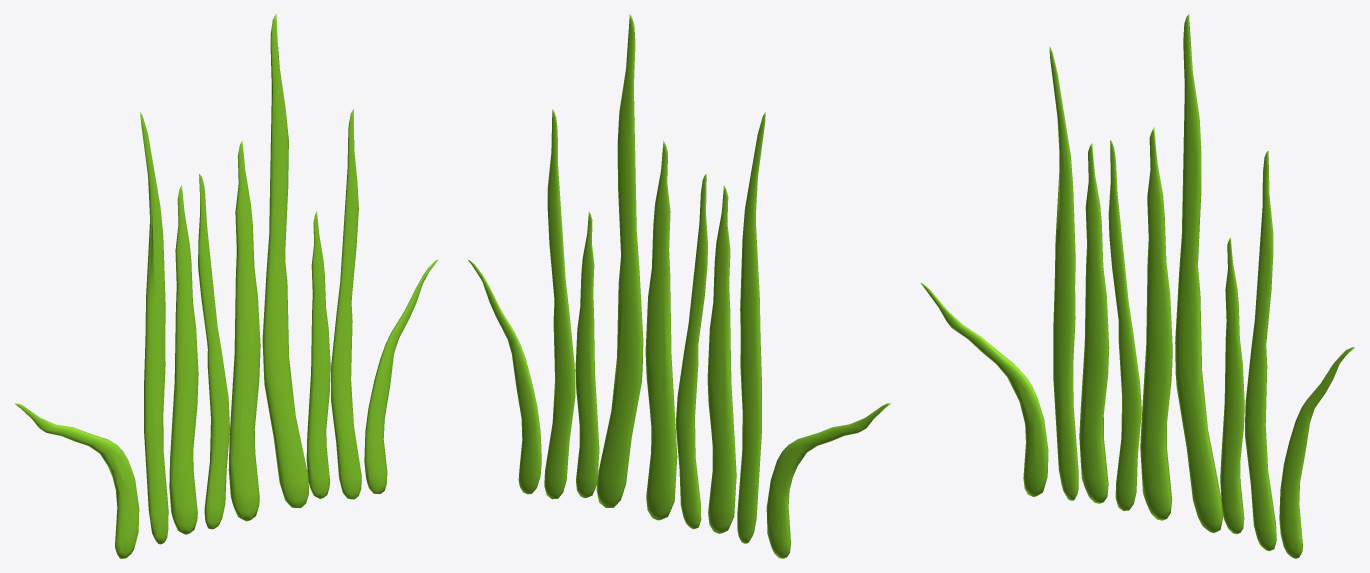
Rendered from grass on top of terrain.fbx.
3 renders of one model, left to right at view 1: azimuth 30°, elevation 25°; view 2: azimuth 150°, elevation 25°; view 3: azimuth 330°, elevation 25°, orthographic. The views are drawn at different scales.
Parts seen in each view (by area): view 1: Cube.018, Cube.021, Cube.024, Cube.023, Cube.019, Cube.020, Cube.022, Cube.026, Cube.025; view 2: Cube.018, Cube.021, Cube.024, Cube.023, Cube.019, Cube.020, Cube.022, Cube.026, Cube.025; view 3: Cube.018, Cube.021, Cube.024, Cube.023, Cube.019, Cube.020, Cube.022, Cube.026, Cube.025.
Part boxes in pixels (x1,y1,x2,y2): Cube.018: (262,14,308,508); Cube.021: (228,141,260,521); Cube.024: (140,112,168,544); Cube.023: (169,185,198,534); Cube.019: (331,109,361,499); Cube.020: (198,174,229,529); Cube.022: (306,211,330,498); Cube.026: (15,403,139,558); Cube.025: (364,260,437,493); Cube.018: (596,14,643,507); Cube.021: (645,141,677,520); Cube.024: (737,112,765,543); Cube.023: (707,185,736,533); Cube.019: (544,109,575,499); Cube.020: (676,174,707,529); Cube.022: (575,211,599,497); Cube.026: (766,403,890,558); Cube.025: (468,260,541,494); Cube.018: (1175,14,1222,533); Cube.021: (1140,127,1172,520); Cube.024: (1049,46,1078,500); Cube.023: (1079,143,1109,503); Cube.019: (1245,150,1276,551); Cube.020: (1108,140,1141,510); Cube.022: (1220,237,1244,534); Cube.026: (921,283,1048,496); Cube.025: (1279,347,1354,558).
Size of the model in its own units: 243 by 278 by 6.42.
